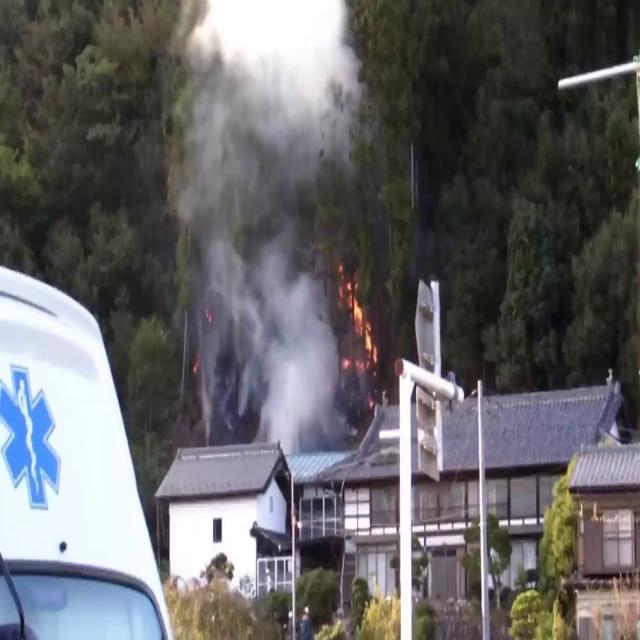Fire: (344, 280, 381, 380)
Smoke: (157, 0, 370, 460)
